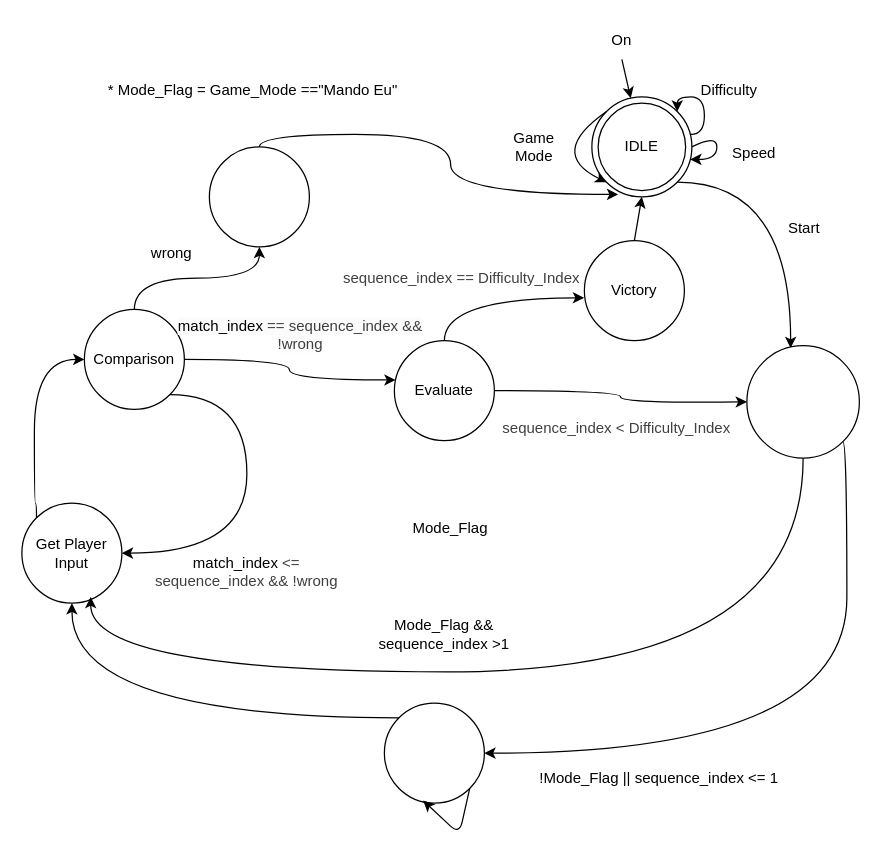
This 881x866 diagram has some shape labels left out. Each missing label, with the box of its shape:
Defeat: (208, 146, 309, 247)
GET NEXT SEQUENCE ITEM: (746, 344, 859, 458)
Show Sequence: (383, 702, 484, 803)
